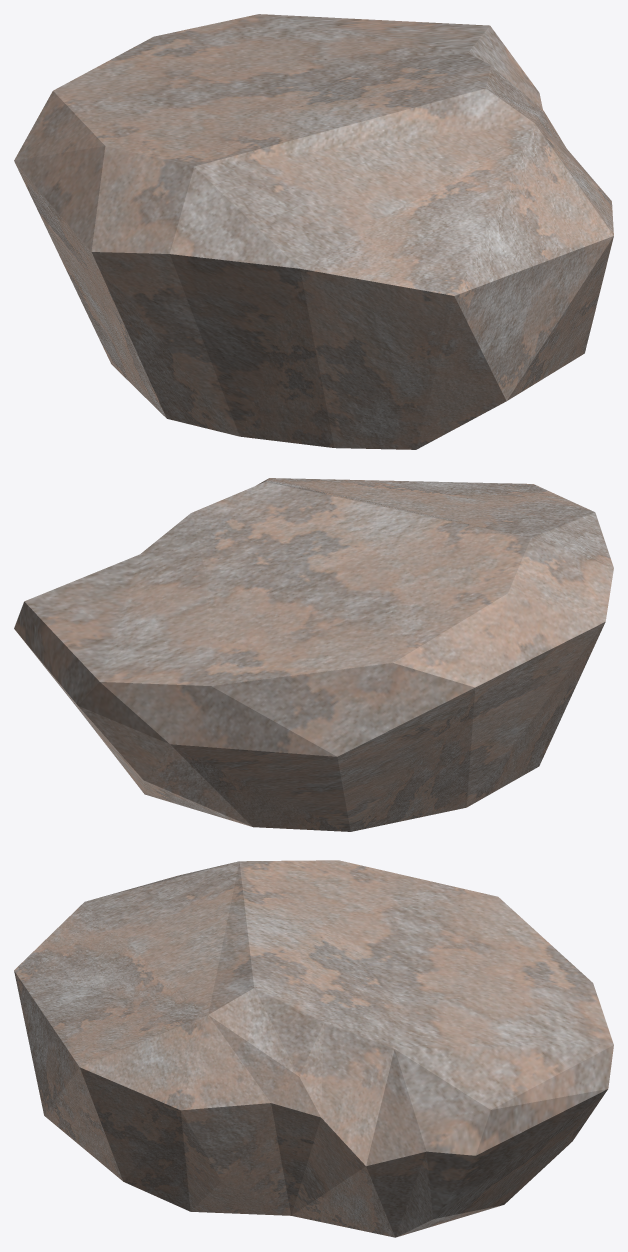
Rendered from stone4.fbx.
3 views of the same model, one above another, from view 1: azimuth 30°, elevation 25°; view 2: azimuth 150°, elevation 25°; view 3: azimuth 270°, elevation 25° (orthographic). The views are drawn at different scales.
Visible parts, largest first — view 1: Group20132; view 2: Group20132; view 3: Group20132.
Boxes of the visible parts, x1=… form: Group20132: x1=14, y1=14, x2=613, y2=449; Group20132: x1=14, y1=478, x2=613, y2=831; Group20132: x1=14, y1=860, x2=613, y2=1237.
Bounding box in the file's own units: 283 × 124 × 307.
